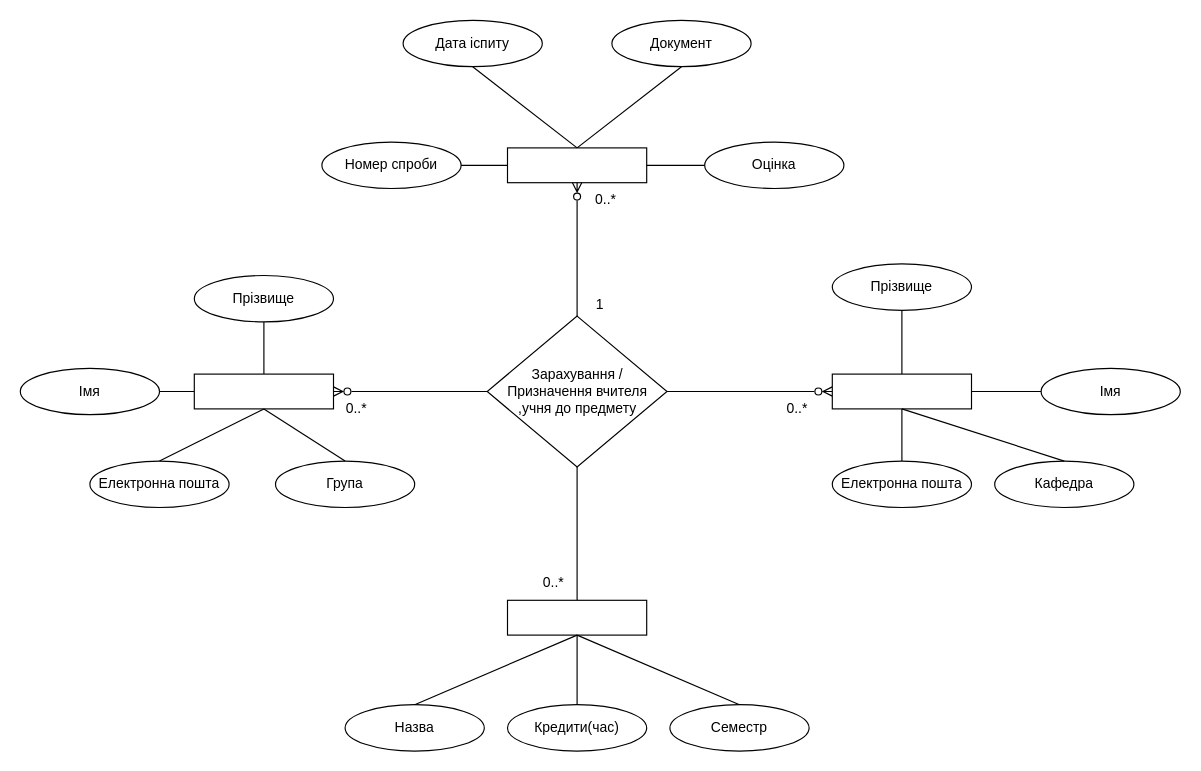
The diagram is 1201 pixels wide and 771 high, and some of its shapes have lost their labels. Here are the shapes that lost their labels. From the top down, the centre of each, then its label:
At [576,165]: "Екзамен (спроба)".
At [263,391]: "Студент".
At [901,391]: "Викладач".
At [576,617]: "Курс".
